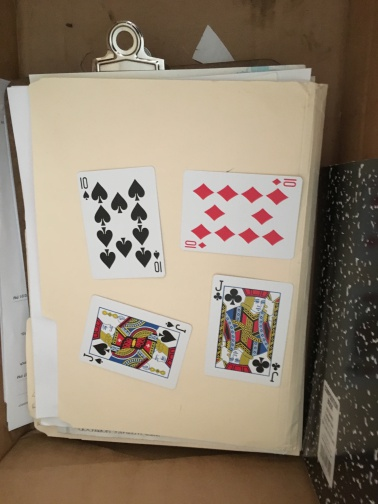jack: (79, 294, 193, 390), (206, 273, 291, 386)
ten: (181, 170, 301, 262), (71, 166, 166, 280)
